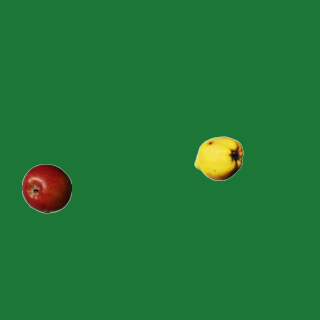Apple Braeburn: (21, 163, 71, 213)
Quince: (193, 133, 243, 183)
